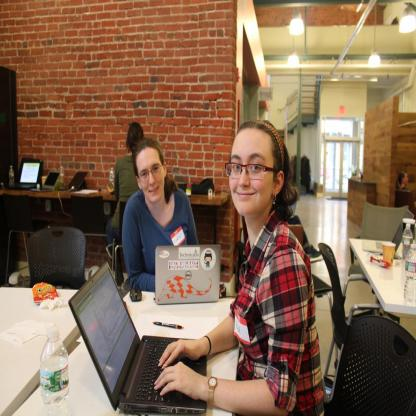board: (67, 271, 200, 408), (155, 245, 220, 304), (40, 325, 69, 416), (5, 160, 43, 188), (404, 244, 416, 306), (31, 170, 60, 189), (58, 171, 87, 190), (404, 224, 412, 270), (109, 166, 115, 188), (9, 164, 14, 186)
